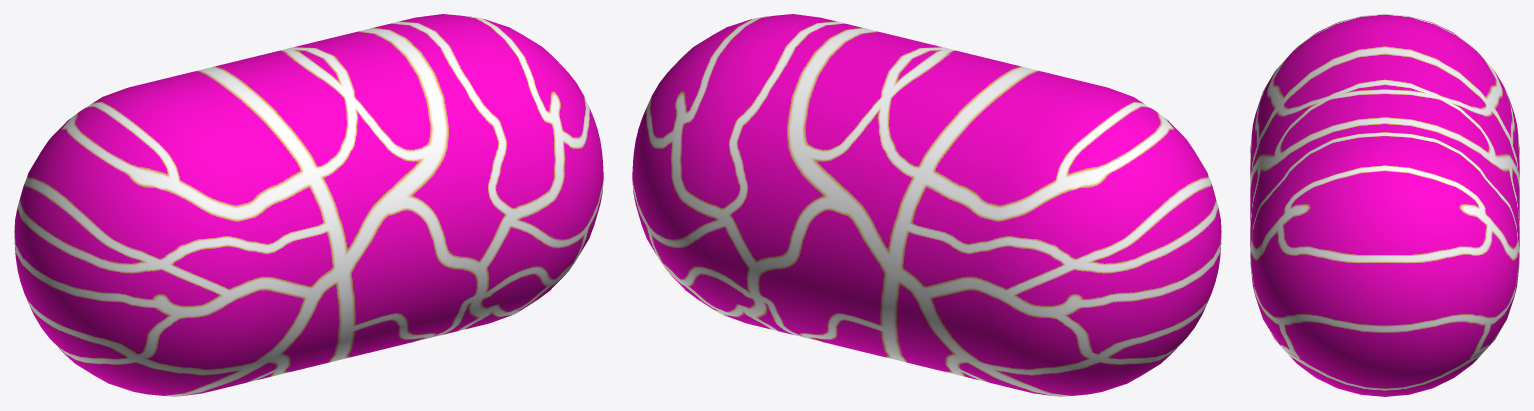
The model's file is block_pink_cracked.glb.
3 renders of one model, left to right at view 1: azimuth 30°, elevation 25°; view 2: azimuth 150°, elevation 25°; view 3: azimuth 270°, elevation 25°, orthographic. The views are drawn at different scales.
Parts seen in each view (by area): view 1: Sphere; view 2: Sphere; view 3: Sphere.
Boxes of the visible parts, x1,y1,x2,y2 form: Sphere: (14,14,603,396); Sphere: (632,14,1221,396); Sphere: (1250,14,1519,396).
Size of the model in its own units: 2 by 1 by 1.
1 material, 1 textured.
